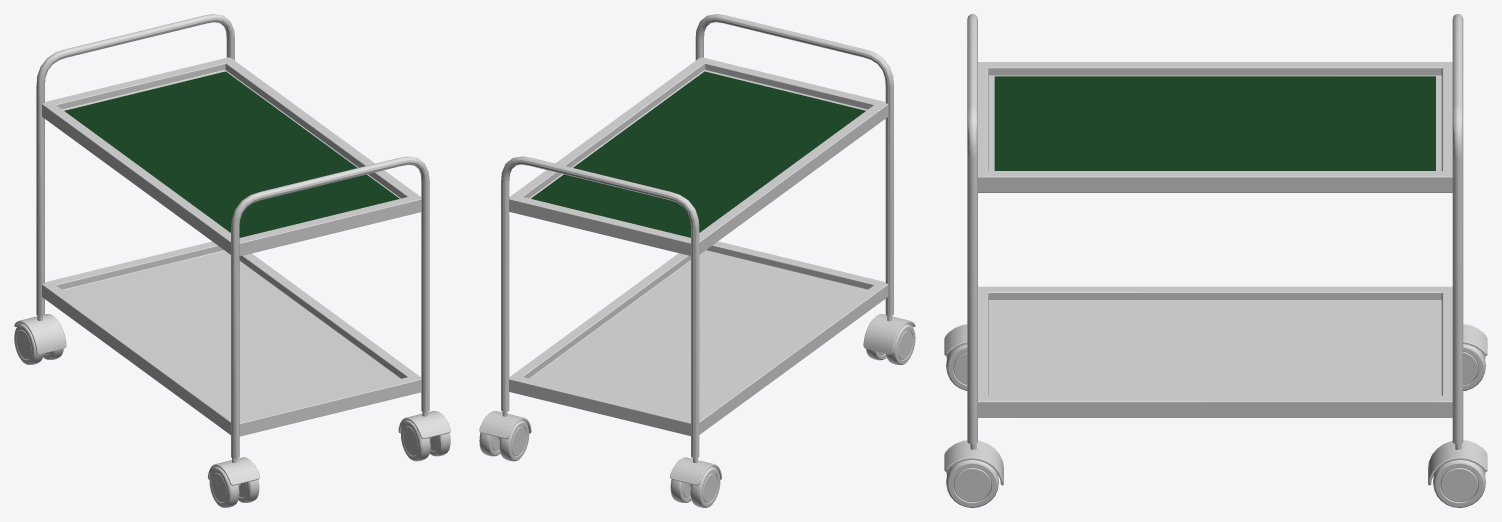
File: Trolley.fbx
The picture shows the model from 3 angles, left to right: view 1: azimuth 30°, elevation 25°; view 2: azimuth 150°, elevation 25°; view 3: azimuth 270°, elevation 25°; orthographic projection. The views are drawn at different scales.
Visible parts, largest first — view 1: Trolley; view 2: Trolley; view 3: Trolley.
Part boxes in pixels (box(x1,y1,x2,y2)): Trolley: box(14, 14, 450, 507); Trolley: box(479, 14, 915, 507); Trolley: box(944, 14, 1487, 507).
Bounding box in the file's own units: 79.48 × 104 × 135.
